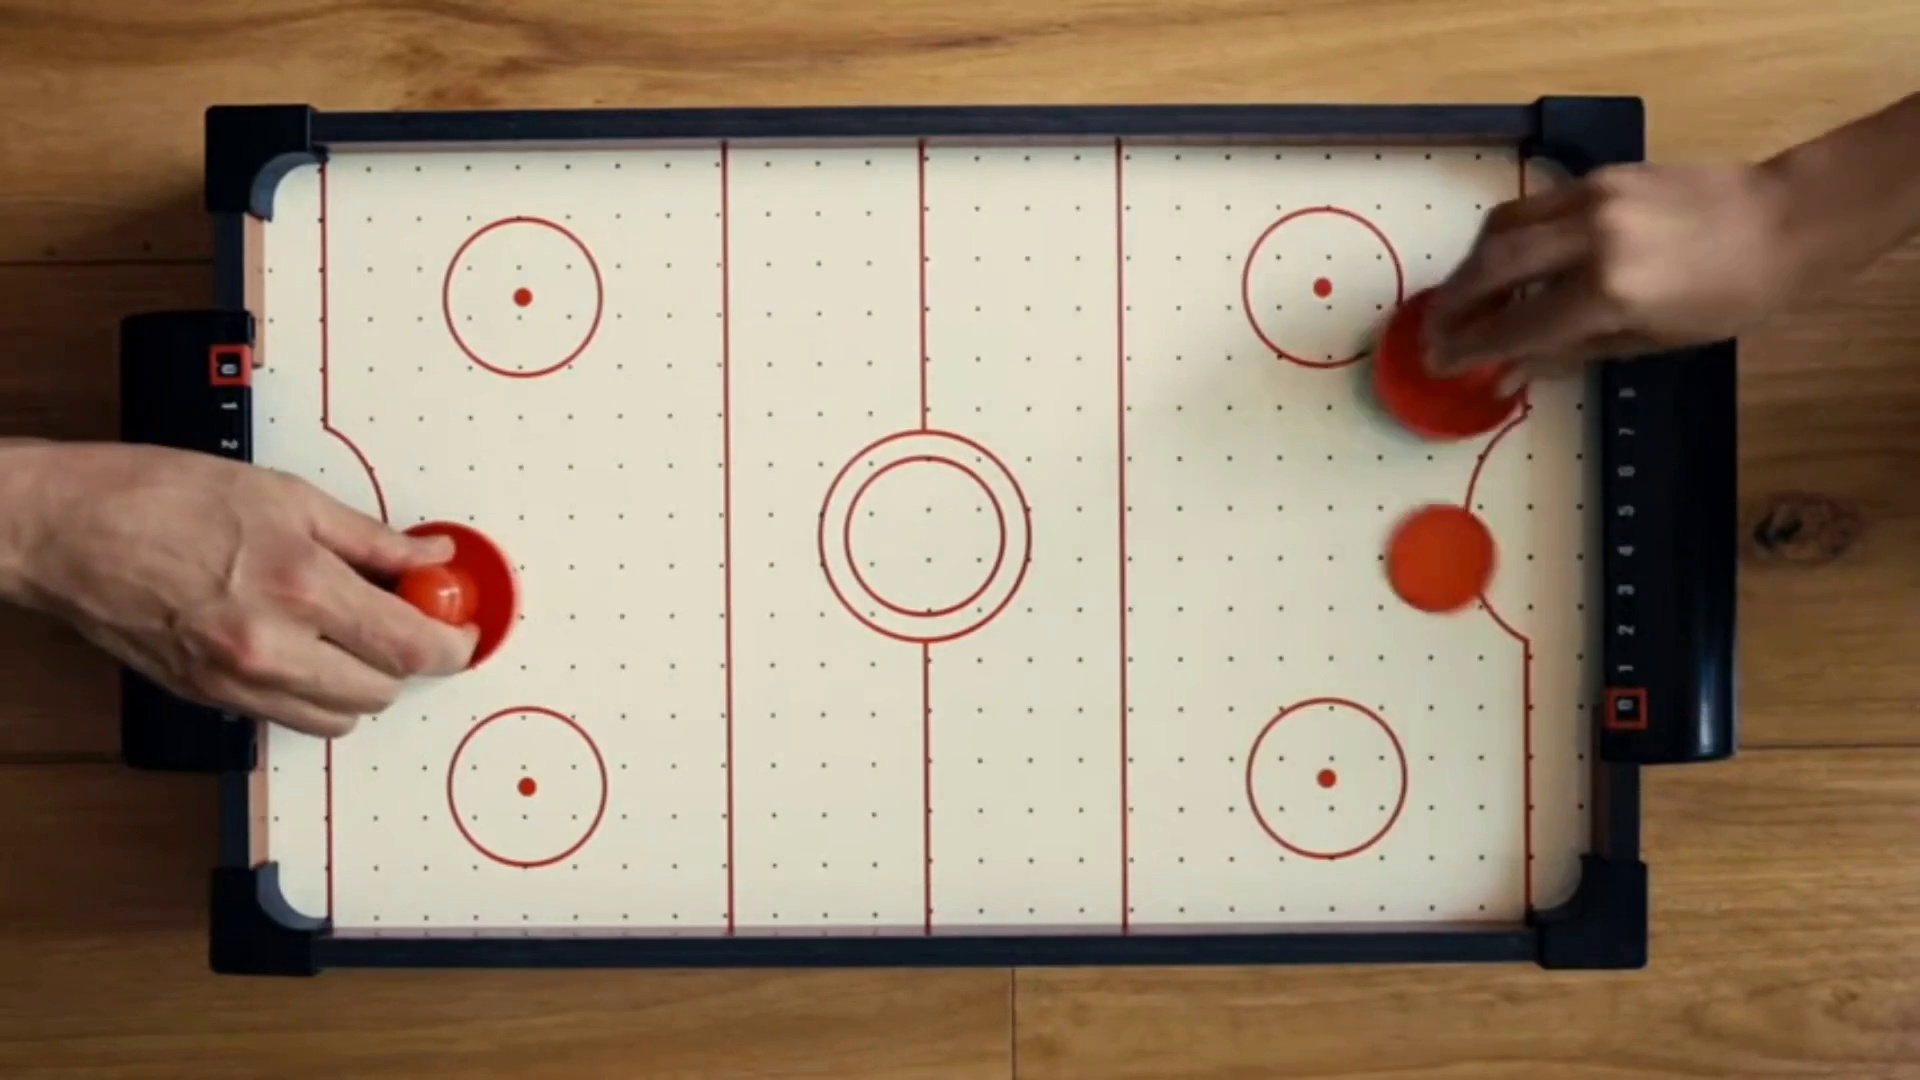player1: (356, 526, 511, 678)
player2: (1381, 288, 1524, 440)
table: (268, 155, 1605, 931), (1391, 502, 1486, 615)
